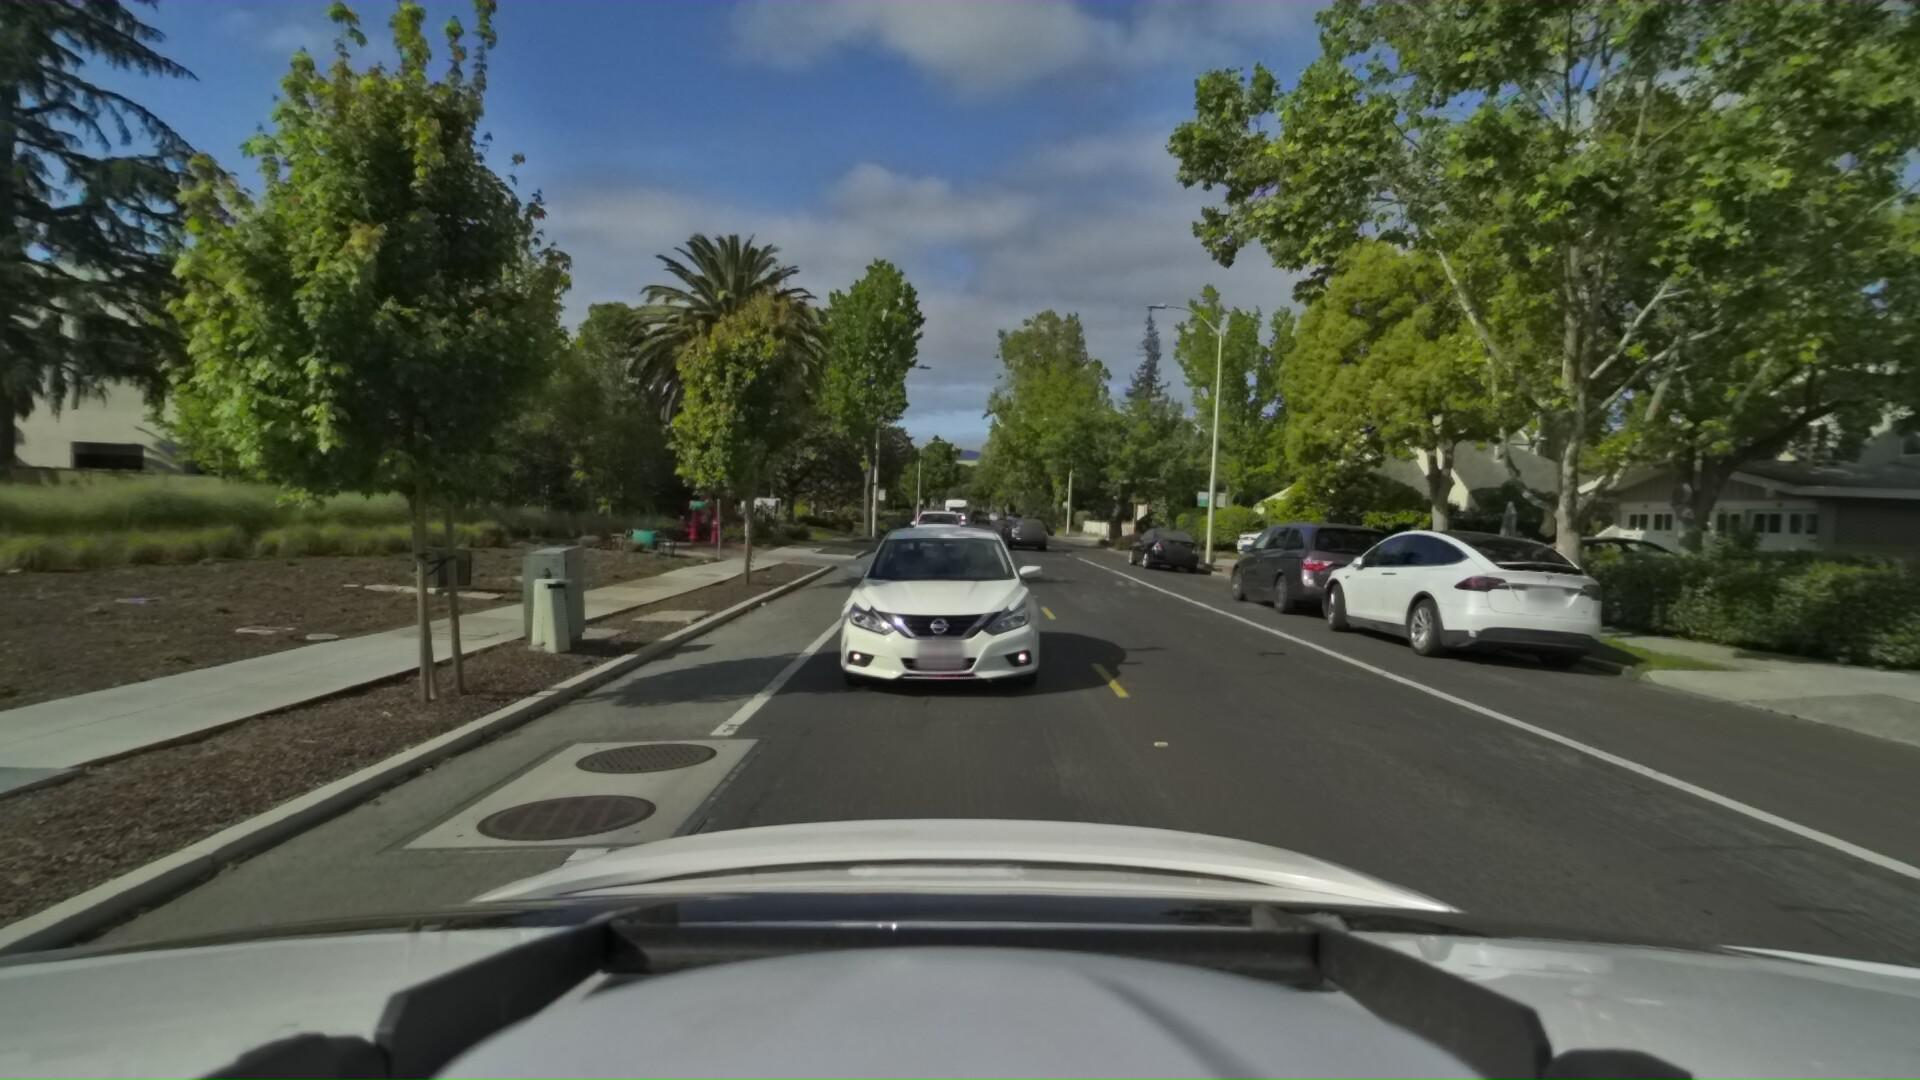car: (1298, 529, 1623, 684), (822, 527, 1058, 717), (1213, 524, 1407, 642), (1487, 533, 1725, 612), (1226, 527, 1346, 568), (1121, 530, 1204, 582), (903, 510, 961, 563), (1002, 520, 1050, 556), (992, 522, 1026, 550), (1023, 517, 1050, 541)
